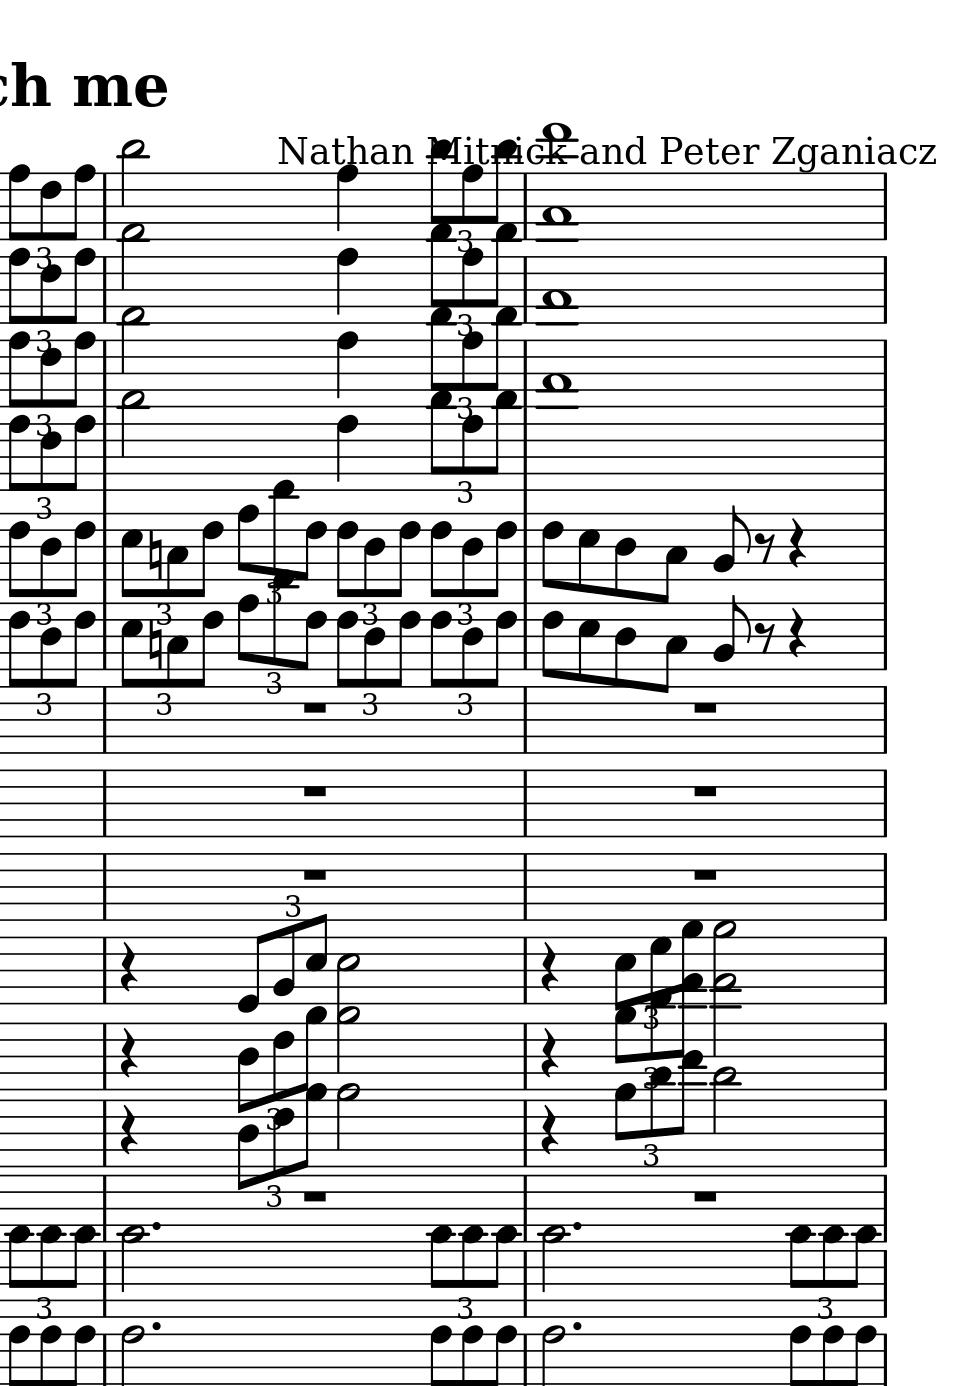3: (264, 671, 283, 698), (35, 691, 52, 719), (815, 1296, 833, 1321), (155, 692, 172, 719)
8_2: (712, 504, 750, 582), (712, 593, 749, 673)
8_6: (62, 596, 97, 685), (38, 170, 63, 241)
8_8: (63, 246, 99, 327), (65, 163, 99, 244), (233, 503, 261, 587)
Natural: (147, 618, 163, 671), (146, 530, 162, 582)
Rests1: (298, 698, 330, 720), (298, 780, 331, 802), (298, 862, 331, 883), (690, 780, 721, 801), (689, 863, 720, 883), (690, 699, 720, 719), (299, 1187, 330, 1206), (689, 1188, 720, 1206)
Rests4: (117, 1105, 140, 1158), (538, 1027, 560, 1078), (538, 1105, 560, 1157), (538, 941, 559, 993), (117, 1027, 138, 1078), (117, 940, 137, 993), (785, 606, 804, 659), (786, 516, 803, 571)
Rests8: (754, 620, 776, 655), (754, 530, 775, 566)
Single_barline: (875, 1250, 896, 1319), (871, 425, 892, 492), (875, 1175, 895, 1243), (874, 341, 893, 408), (872, 514, 891, 581), (876, 1101, 895, 1166), (876, 1023, 894, 1092), (877, 936, 894, 1006), (517, 769, 533, 838), (877, 854, 894, 922), (517, 172, 533, 239), (876, 603, 893, 670), (517, 687, 532, 756), (97, 769, 112, 838), (878, 257, 894, 324), (97, 687, 112, 755), (878, 770, 894, 838), (519, 1103, 536, 1166), (876, 1334, 896, 1386), (877, 174, 893, 240), (878, 687, 893, 757), (518, 854, 532, 922), (98, 172, 112, 238), (98, 853, 111, 922), (518, 1175, 532, 1236), (519, 938, 532, 1003), (98, 938, 110, 1006), (519, 1252, 532, 1315), (98, 1253, 111, 1316), (518, 1335, 533, 1386), (519, 1025, 531, 1087), (98, 1335, 112, 1385)
dot: (571, 1220, 581, 1235)
